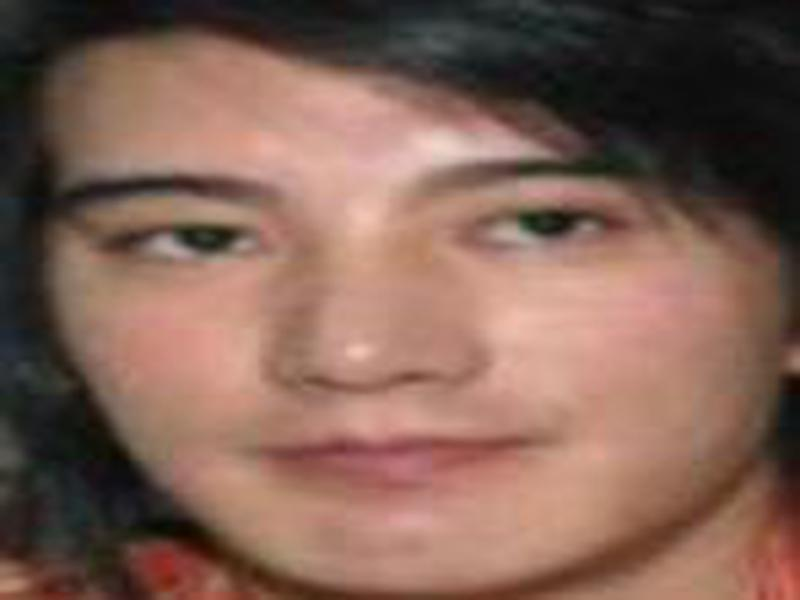without_mask: (33, 76, 731, 587)
